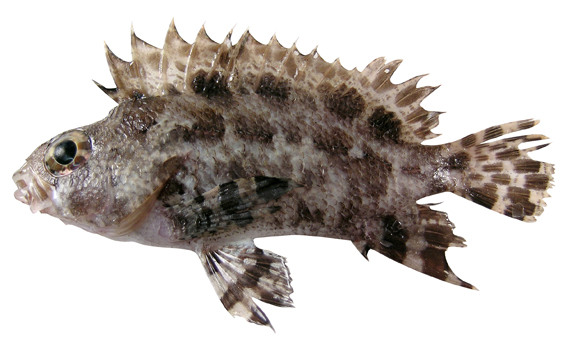fish: (13, 20, 555, 330)
